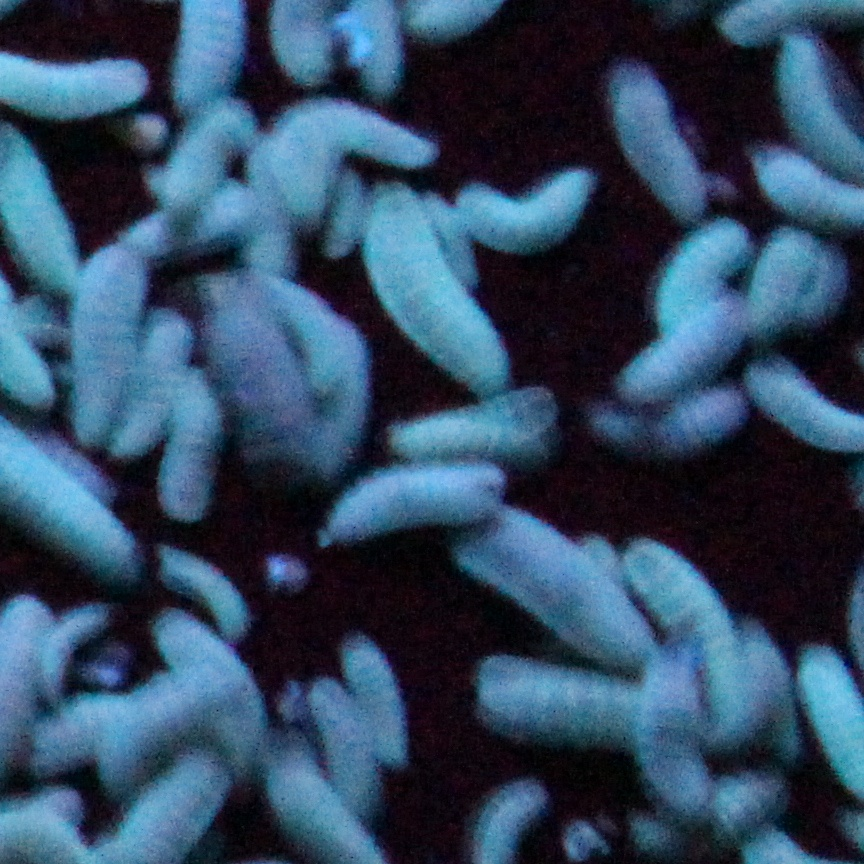larve: (359, 180, 521, 400), (445, 496, 654, 665), (617, 528, 756, 746), (194, 266, 329, 474), (602, 56, 719, 222), (316, 450, 510, 548), (614, 292, 760, 407), (328, 621, 420, 769), (449, 168, 609, 252), (152, 544, 265, 645)
